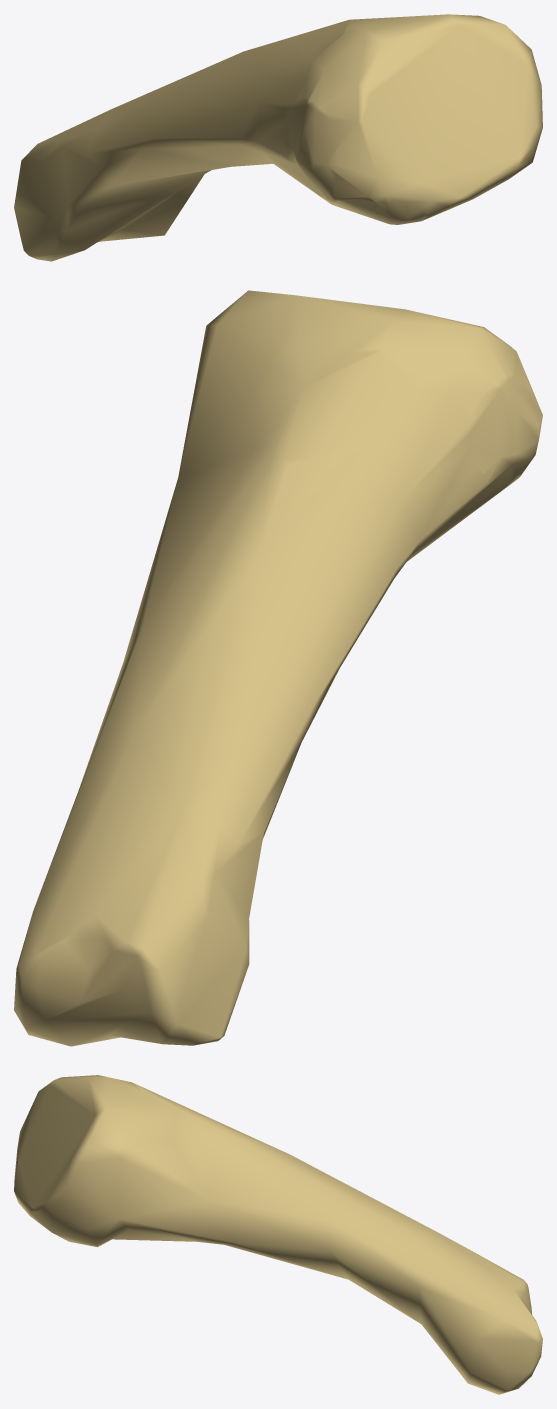
The picture shows the model from 3 angles, top to bottom: view 1: azimuth 30°, elevation 25°; view 2: azimuth 150°, elevation 25°; view 3: azimuth 270°, elevation 25°; orthographic projection. The views are drawn at different scales.
Visible parts, largest first — view 1: 左侧第五指近节指骨; view 2: 左侧第五指近节指骨; view 3: 左侧第五指近节指骨.
Part boxes in pixels (bbox=[...]): 左侧第五指近节指骨: bbox=[14, 14, 542, 261]; 左侧第五指近节指骨: bbox=[14, 290, 542, 1046]; 左侧第五指近节指骨: bbox=[14, 1075, 542, 1394].
Size of the model in its own units: 0.0219 by 0.0319 by 0.0498.
